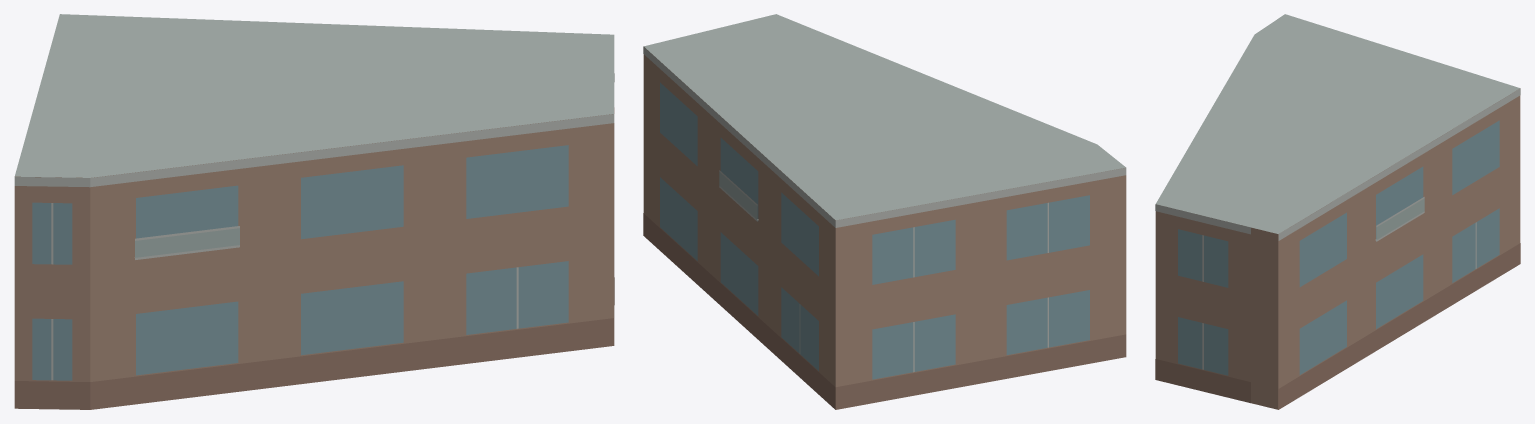
File: survey-upis-32968972.glb
3 renders of one model, left to right at view 1: azimuth 30°, elevation 25°; view 2: azimuth 150°, elevation 25°; view 3: azimuth 270°, elevation 25°, orthographic. The views are drawn at different scales.
Visible parts, largest first — view 1: survey-upis-32968972.tmp; view 2: survey-upis-32968972.tmp; view 3: survey-upis-32968972.tmp.
Part boxes in pixels (x1,y1,x2,y2): survey-upis-32968972.tmp: (14, 14, 614, 409); survey-upis-32968972.tmp: (643, 14, 1126, 409); survey-upis-32968972.tmp: (1155, 14, 1520, 409).
Bounding box in the file's own units: 16.4 × 6.1 × 11.49.
